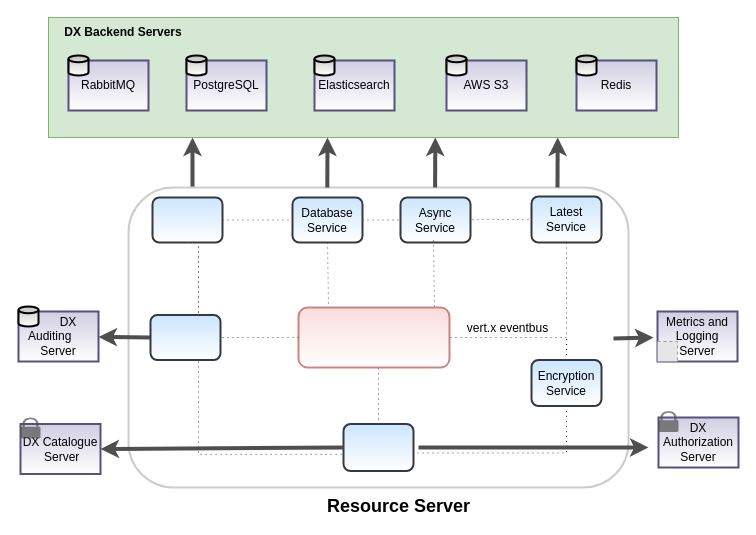
Image size: 756x535. Some labels were removed from this diagram. Grey dashed boxes stand in for pictures. The shapes that lost their labels are listed below. From the top down, each one's centre as x and y in pixels, then its label:
(187,219): DataBroker Service
(185,337): Auditing Service
(373,337): API Server
(378,447): Authorization Service
